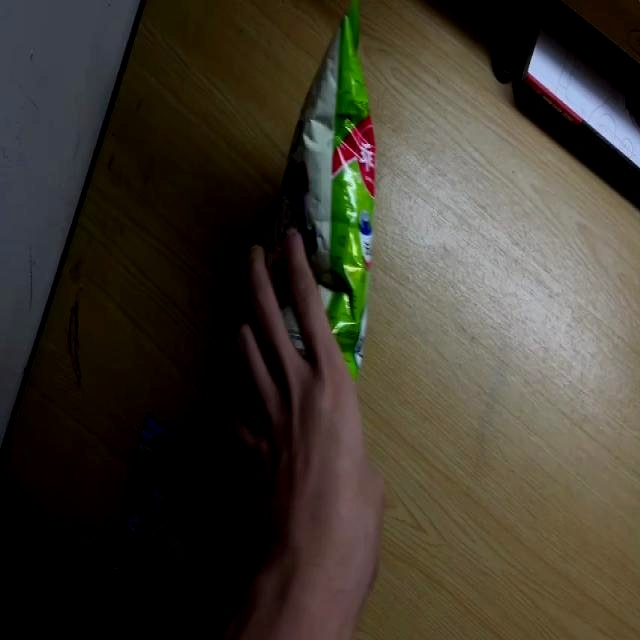Good-Luck: (244, 0, 376, 501)
